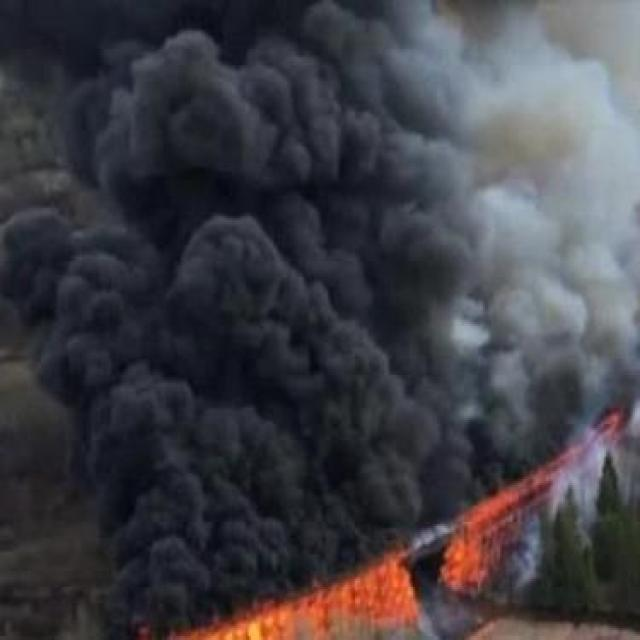Fire: (133, 414, 633, 640)
Smoke: (0, 0, 640, 638)
